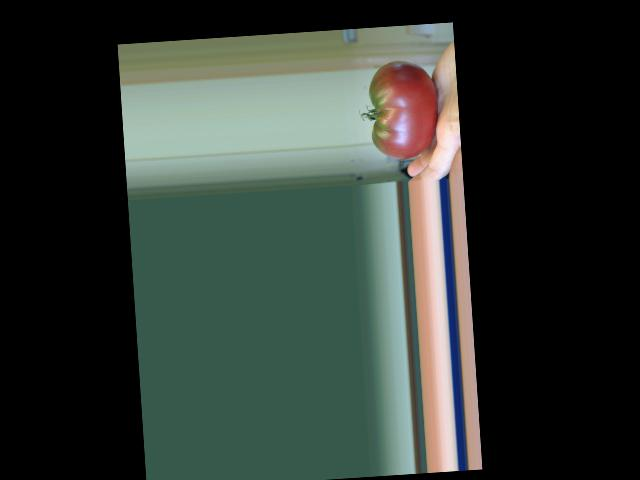tomato: (367, 58, 441, 161)
